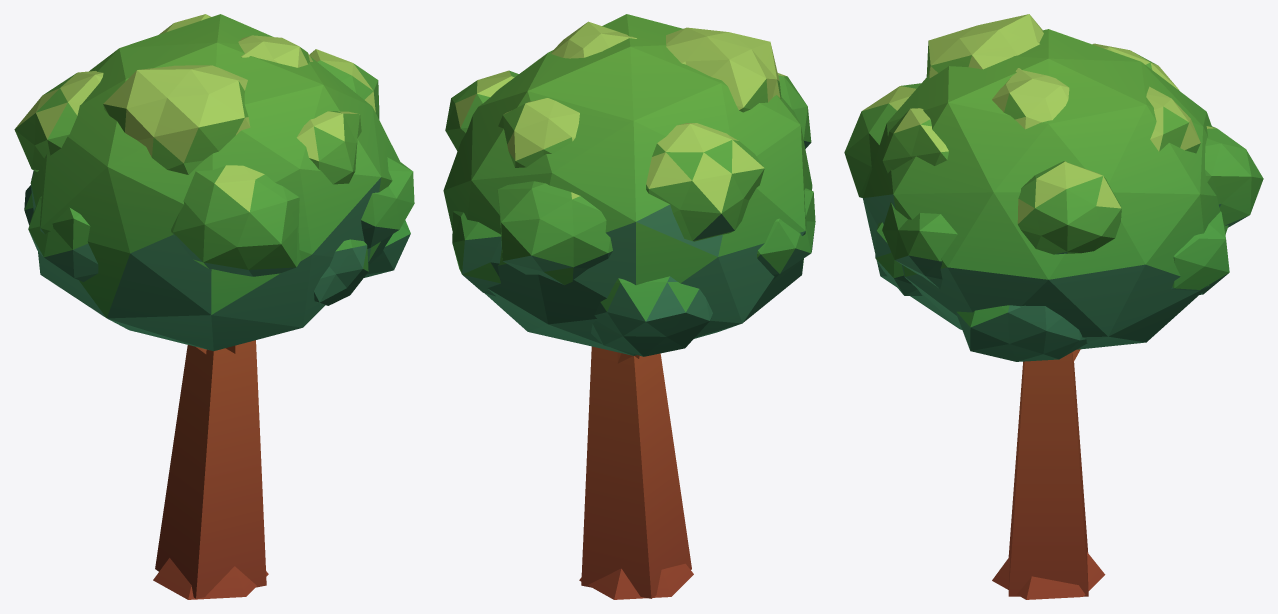
File: leafy_tree_a.9547e2ad56.gltf
3 renders of one model, left to right at view 1: azimuth 30°, elevation 25°; view 2: azimuth 150°, elevation 25°; view 3: azimuth 270°, elevation 25°, orthographic. The views are drawn at different scales.
Parts seen in each view (by area): view 1: leafy_tree_a; view 2: leafy_tree_a; view 3: leafy_tree_a.
Part boxes in pixels (x1=…): leafy_tree_a: x1=14, y1=14, x2=414, y2=599; leafy_tree_a: x1=443, y1=14, x2=815, y2=599; leafy_tree_a: x1=844, y1=14, x2=1263, y2=599.
Bounding box in the file's own units: 2.76 × 4.07 × 2.93.
1 material, 1 textured.
